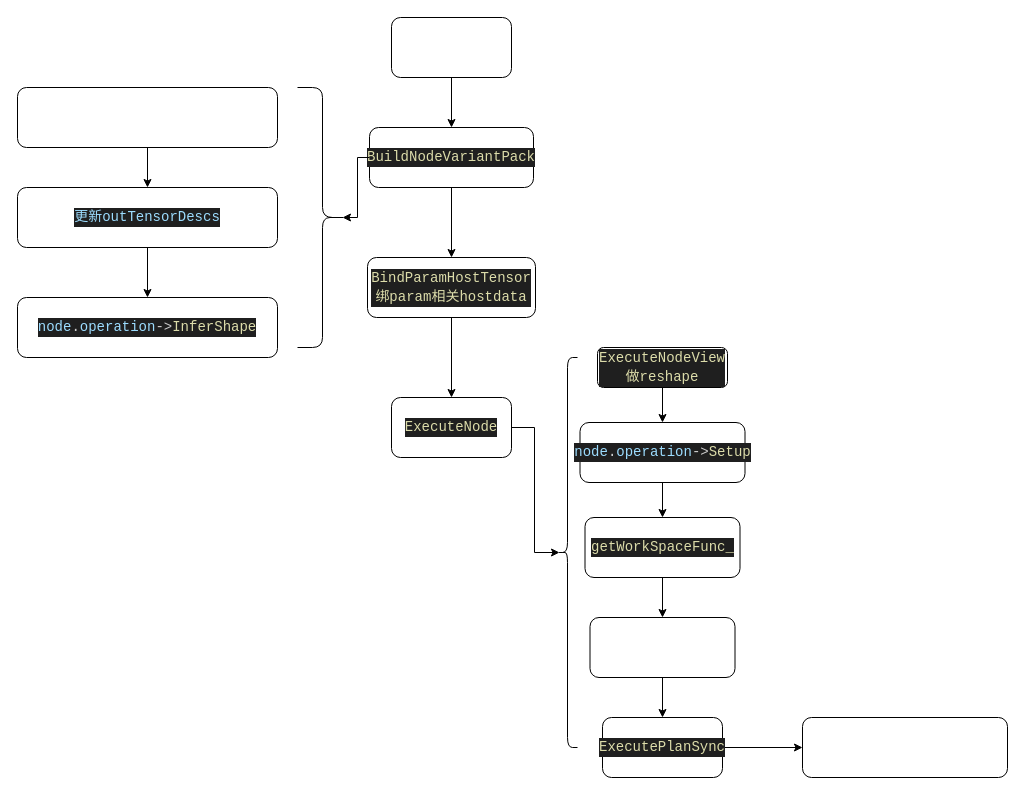
This 1025x795 diagram has some shape labels left out. The centre of each missing label's shape, as x and y in pixels:
"ExecutePlanAsync" goes at point 662,647.
"Model :: Execute" goes at point 451,47.
"node . operation -> Execute" goes at point 905,747.
"更新ndoe/ inTensors+ inTensorDescs" goes at point 147,117.
